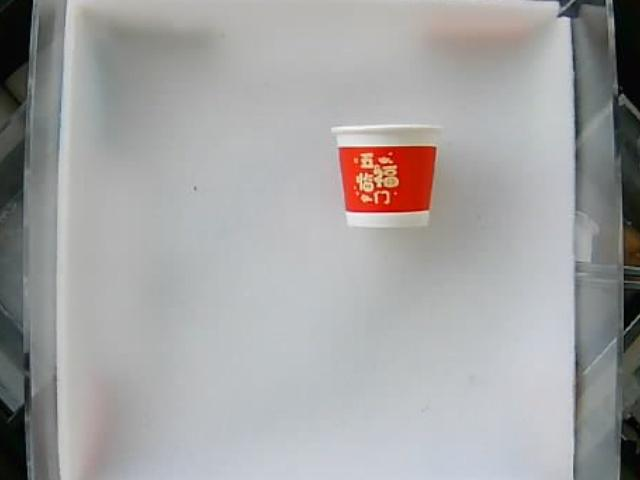Cup: (334, 118, 443, 230)
